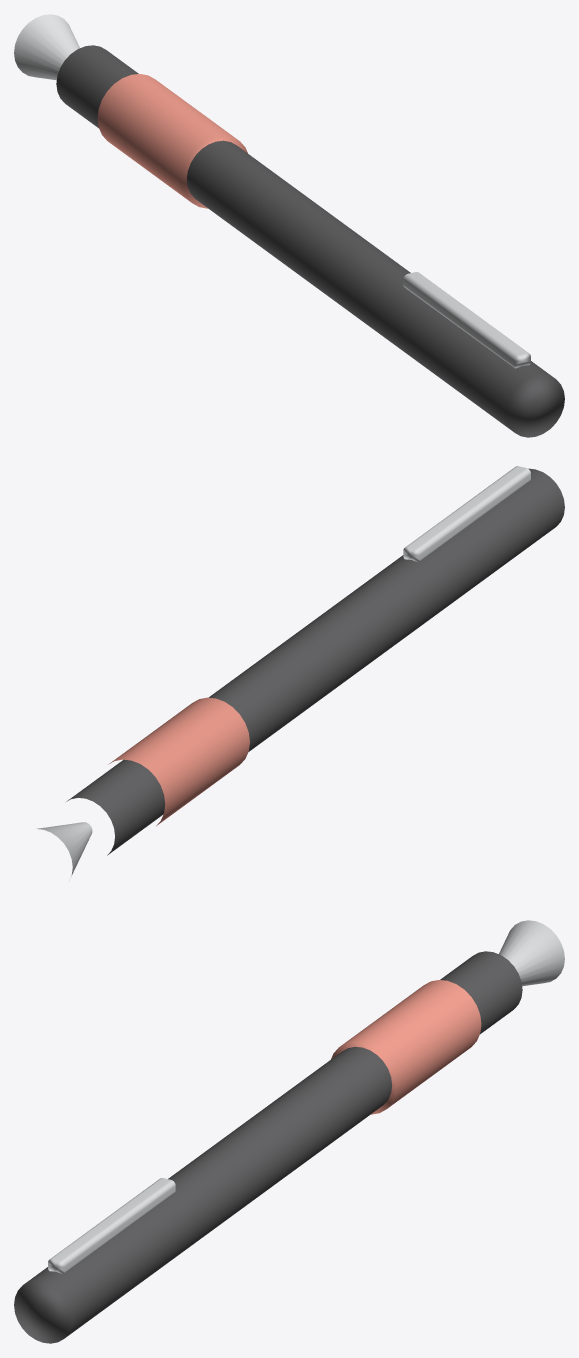
The model's file is pen.glb.
3 views of the same model, one above another, from view 1: azimuth 30°, elevation 25°; view 2: azimuth 150°, elevation 25°; view 3: azimuth 330°, elevation 25° (orthographic).
Visible parts, largest first — view 1: pen, grip, clip, tip; view 2: pen, grip, clip, tip; view 3: pen, grip, clip, tip.
Boxes of the visible parts, bbox=[...] form: pen: bbox=[56, 45, 564, 437]; grip: bbox=[97, 74, 247, 208]; clip: bbox=[403, 272, 530, 368]; tip: bbox=[14, 14, 79, 80]; pen: bbox=[66, 468, 564, 855]; grip: bbox=[108, 697, 249, 825]; clip: bbox=[403, 466, 530, 562]; tip: bbox=[36, 822, 92, 876]; pen: bbox=[14, 951, 522, 1343]; grip: bbox=[331, 980, 481, 1114]; clip: bbox=[48, 1178, 175, 1274]; tip: bbox=[499, 920, 564, 986].
Bounding box in the file's own units: 0.012 × 0.0132 × 0.151.
